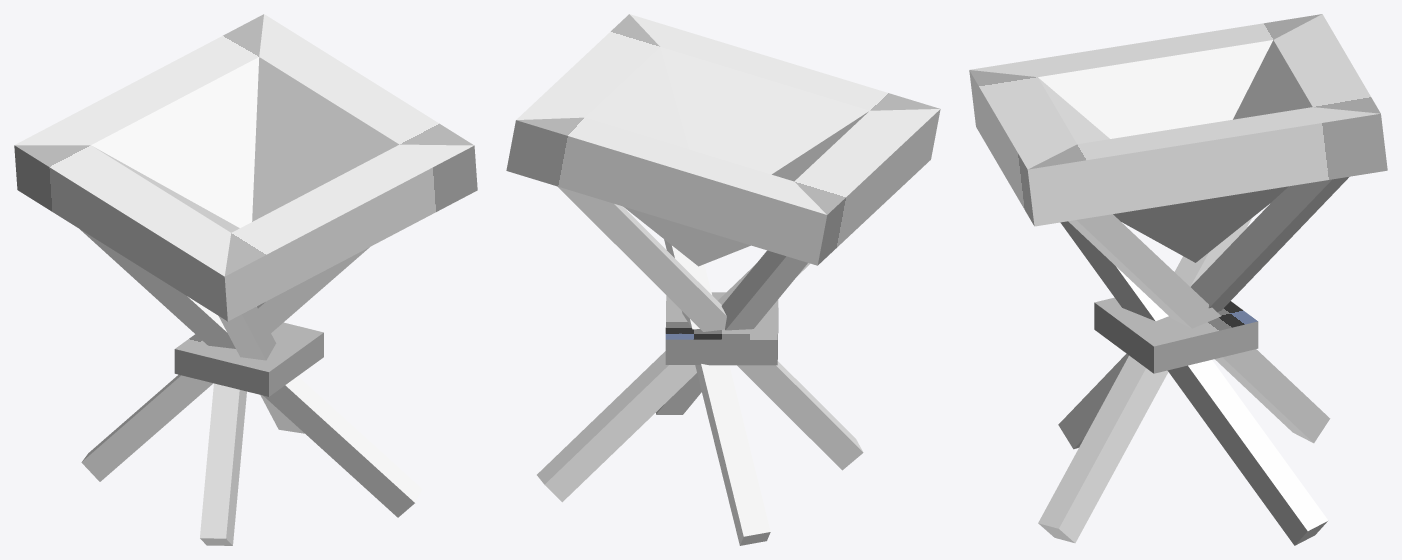
File: makeshift_resonator_dry.obj
3 renders of one model, left to right at view 1: azimuth 30°, elevation 25°; view 2: azimuth 150°, elevation 25°; view 3: azimuth 270°, elevation 25°, orthographic. The views are drawn at different scales.
Visible parts, largest first — view 1: Bowl_Cube, Sticks_Cube.005, String_Cube.001; view 2: Bowl_Cube, Sticks_Cube.005, String_Cube.001; view 3: Bowl_Cube, Sticks_Cube.005, String_Cube.001.
Part boxes in pixels (box(x1,y1,x2,y2)): Bowl_Cube: box(14, 14, 477, 321); Sticks_Cube.005: box(80, 229, 422, 545); String_Cube.001: box(174, 322, 323, 396); Bowl_Cube: box(506, 14, 940, 266); Sticks_Cube.005: box(537, 186, 863, 545); String_Cube.001: box(665, 292, 778, 365); Bowl_Cube: box(969, 14, 1387, 262); Sticks_Cube.005: box(1038, 176, 1349, 545); String_Cube.001: box(1094, 297, 1258, 373).
Size of the model in its own units: 0.8805 by 0.9914 by 0.871.
